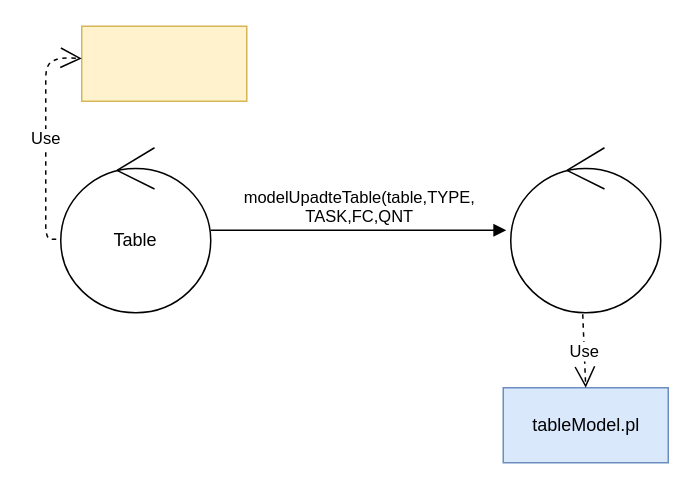
Image size: 695x489. Some labels were removed from this diagram. The shapes that lost their labels are listed below. From the top down, each one's centre as x and y in pixels, then its label:
At point (163, 63): "table.java".
At point (585, 229): "ResourceModel Table".
